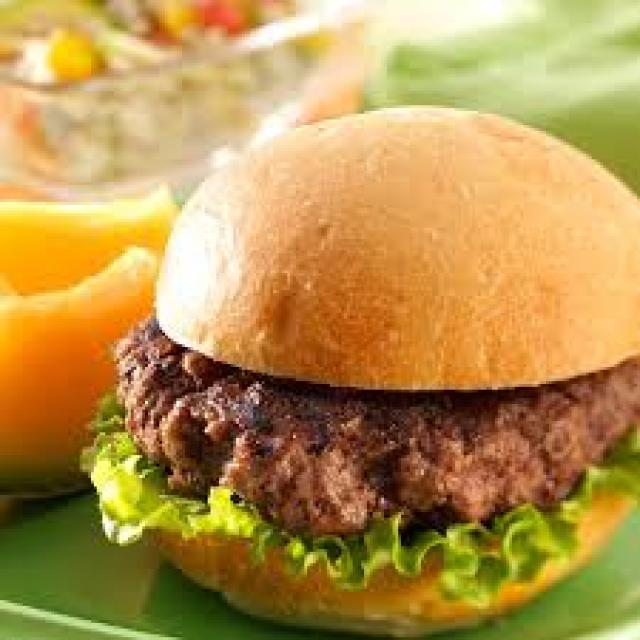Wet Waste: (165, 104, 640, 609)
